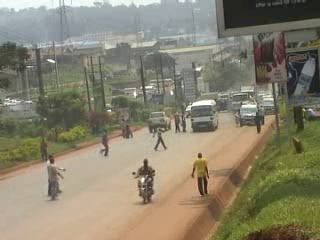Car: (213, 96, 231, 113), (185, 103, 191, 120)
Motorcycle: (130, 158, 157, 206)
